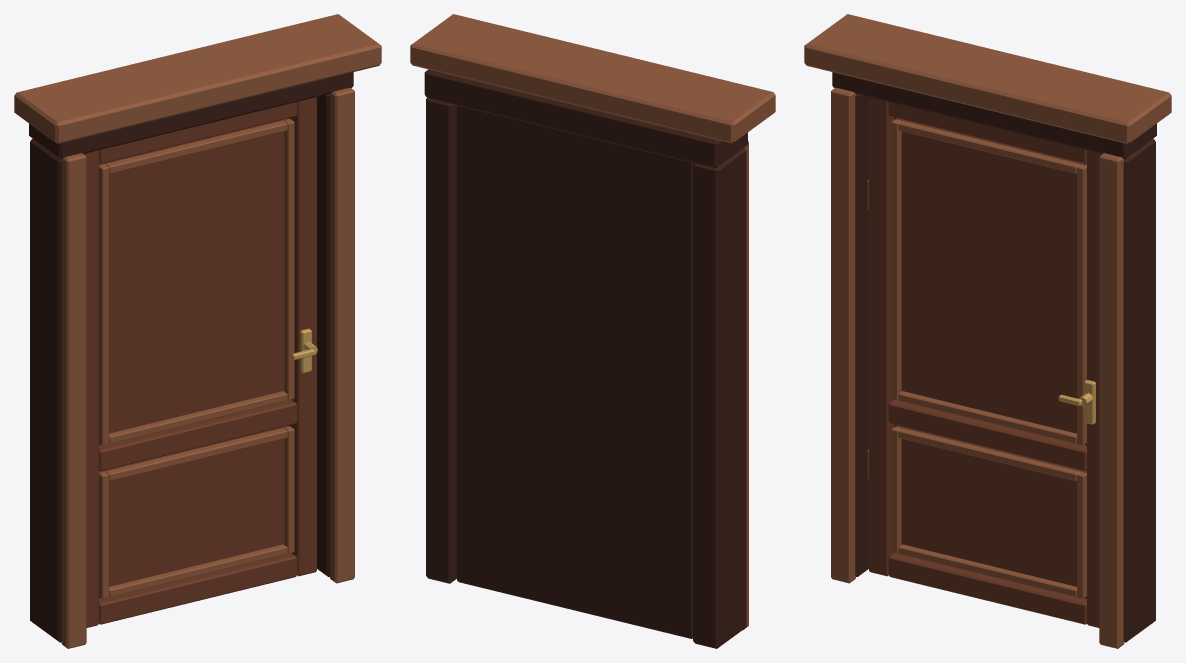
The model's file is door_20.glb.
The picture shows the model from 3 angles, left to right: view 1: azimuth 30°, elevation 25°; view 2: azimuth 150°, elevation 25°; view 3: azimuth 330°, elevation 25°; orthographic projection.
Parts seen in each view (by area): view 1: Panel_0_1_Field, Cornice, Panel_0_0_Field, Jamb__1, Jamb_moulding__1, Jamb_moulding_1, Leaf_stile_0_1, Jamb_1, Leaf_stile_0__1, Lintel, Leaf_crossrail_0_0_048, Leaf_crossrail_0_0_744 (+9 smaller); view 2: Leaf_0, Jamb__1, Cornice, Jamb_1, Lintel, Jamb_moulding__1; view 3: Panel_0_1_Field, Cornice, Panel_0_0_Field, Jamb_1, Jamb_moulding_1, Jamb_moulding__1, Leaf_stile_0__1, Jamb__1, Leaf_stile_0_1, Lintel, Leaf_crossrail_0_0_048, Leaf_crossrail_0_0_744 (+9 smaller).
Boxes of the visible parts, x1,y1,x2,y2 form: Panel_0_1_Field: (99,118,289,433); Cornice: (14,14,381,144); Panel_0_0_Field: (99,425,289,586); Jamb__1: (30,138,62,642); Jamb_moulding__1: (61,153,86,648); Jamb_moulding_1: (330,87,354,583); Leaf_stile_0_1: (291,97,316,576); Jamb_1: (317,94,330,576); Leaf_stile_0__1: (83,150,98,627); Lintel: (29,72,353,159); Leaf_crossrail_0_0_048: (99,553,297,624); Leaf_crossrail_0_0_744: (99,400,297,471); Leaf_0: (457,105,693,638); Jamb__1: (693,147,746,648); Cornice: (410,14,775,143); Jamb_1: (426,98,456,583); Lintel: (424,69,747,168); Jamb_moulding__1: (743,141,748,629); Panel_0_1_Field: (896,118,1086,433); Cornice: (804,14,1171,144); Panel_0_0_Field: (896,425,1086,586); Jamb_1: (1123,138,1155,642); Jamb_moulding_1: (1099,153,1124,648); Jamb_moulding__1: (831,87,855,583); Leaf_stile_0__1: (869,97,894,576); Jamb__1: (855,94,868,576); Leaf_stile_0_1: (1087,150,1102,627); Lintel: (832,72,1156,159); Leaf_crossrail_0_0_048: (888,553,1086,624); Leaf_crossrail_0_0_744: (888,400,1086,471).
Size of the model in its own units: 1.55 by 2.44 by 0.37.
